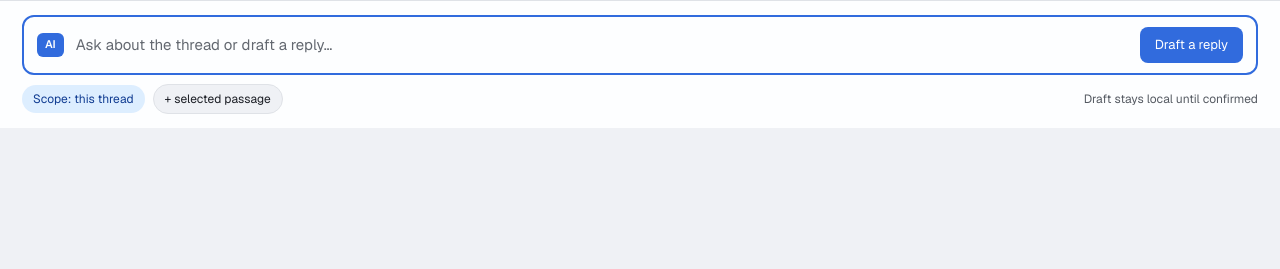
Test: ReplyDraftCard › opens the composer holding the draft, and lets the card go
Submit the form named "Ask about this correspondence", box left=0, top=0, right=1279, bottom=128
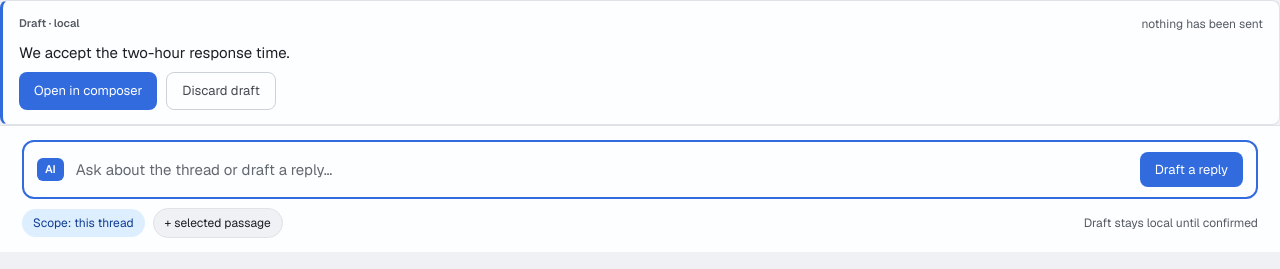
Click the button "Open in composer". click: (88, 91)
box: left=19, top=72, right=157, bottom=110
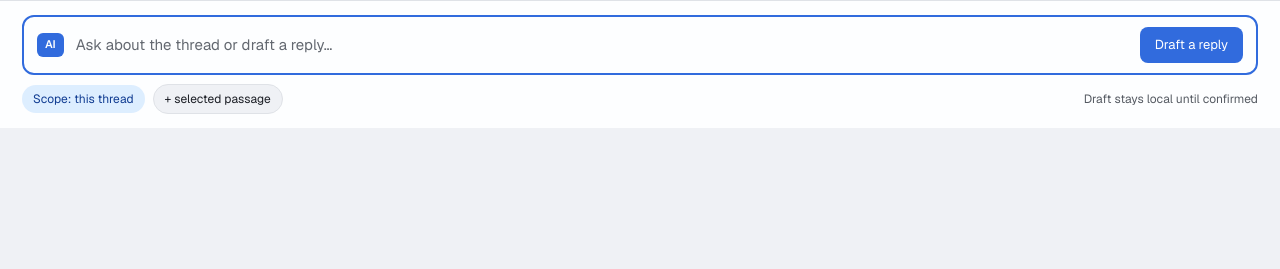
expect the text "Draft · local" is gone: met
